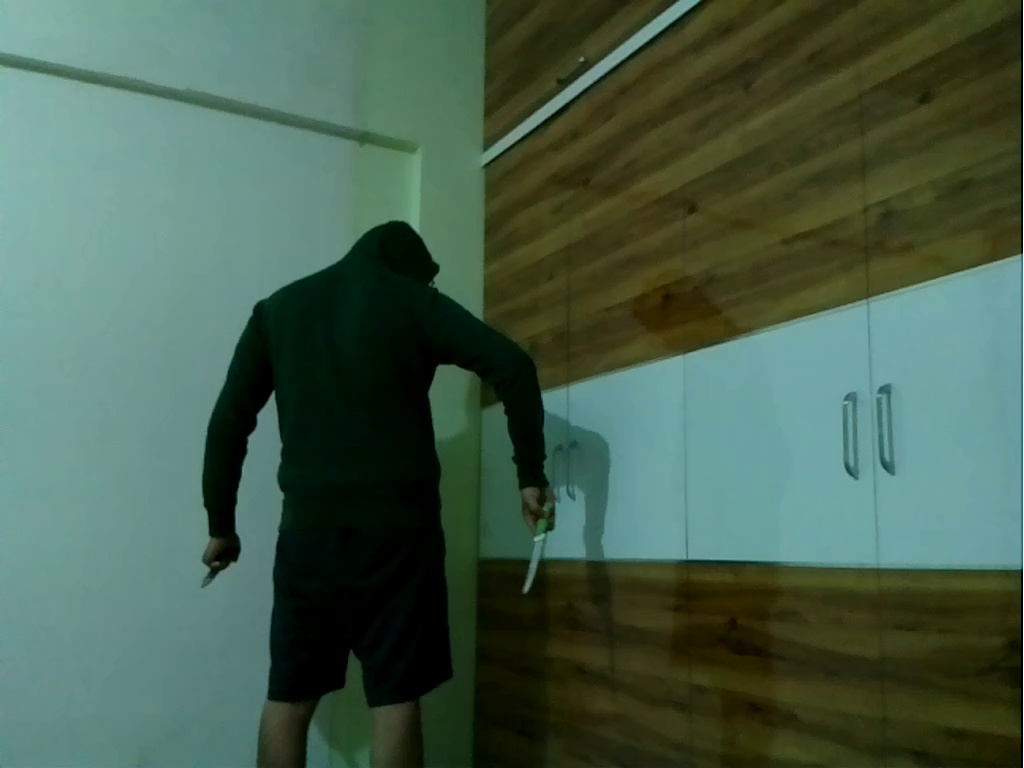knife: (512, 492, 563, 602), (190, 546, 247, 600)
